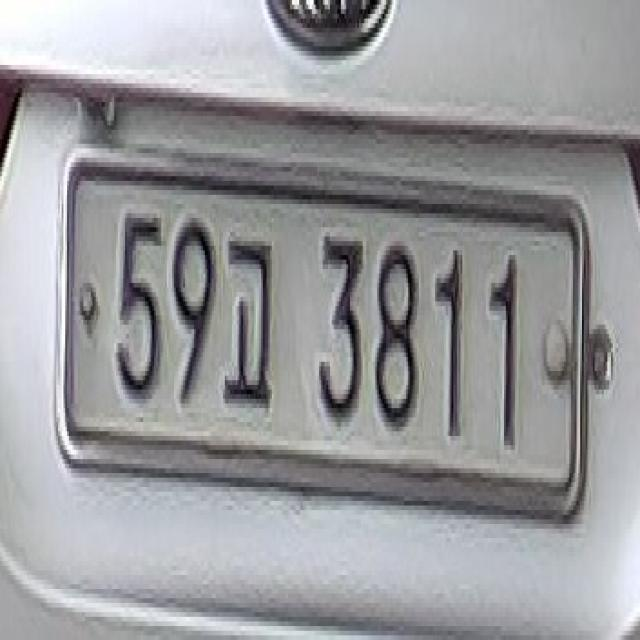1: (426, 238, 471, 451), (478, 244, 525, 445)
3: (316, 210, 364, 436)
5: (116, 202, 162, 404)
8: (370, 228, 420, 437)
9: (170, 202, 217, 402)
go: (222, 208, 278, 428)
license_plate: (54, 138, 598, 546)
